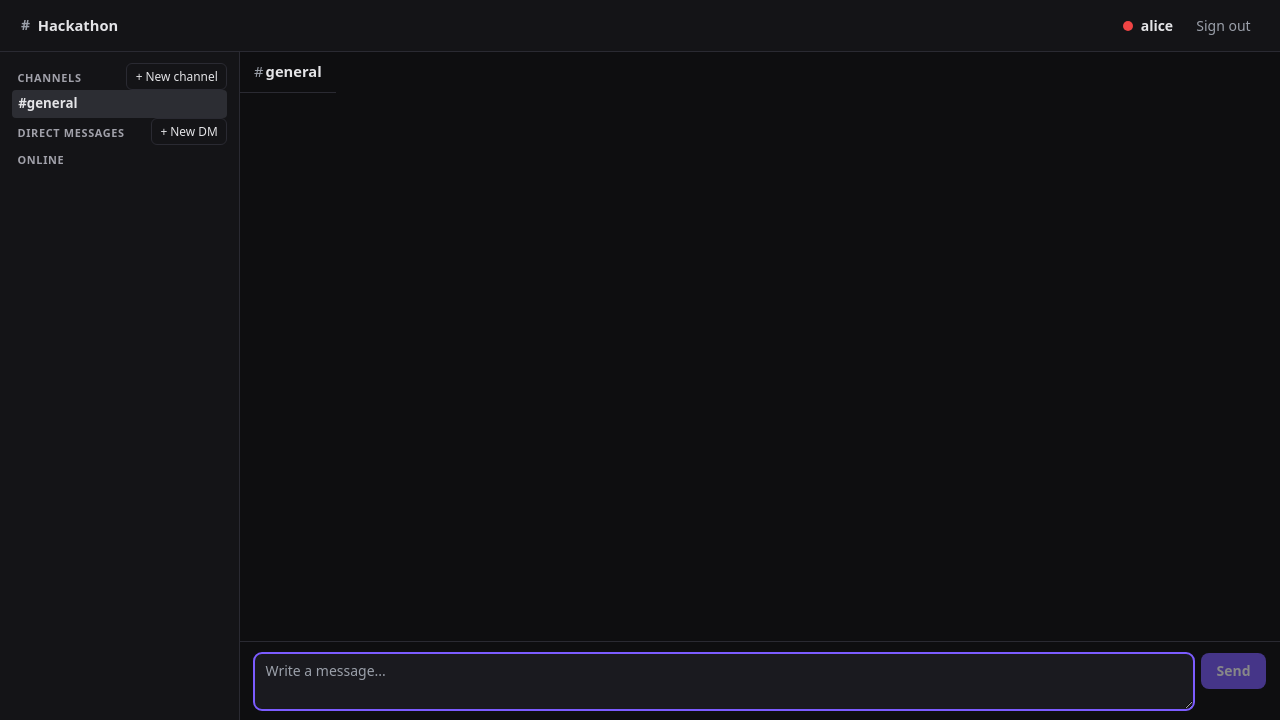
test_web_self_authored_optimistic_message_is_aria_hidden_for_sr › self-authored optimistic-send <article> carries aria-hidden=true while data-status=pending so the polite log region does not read the user's own message back to
The image size is (1280, 720).
Type "my own message" into the text box labelled "message". click: [724, 681]
box: [254,653,1194,710]
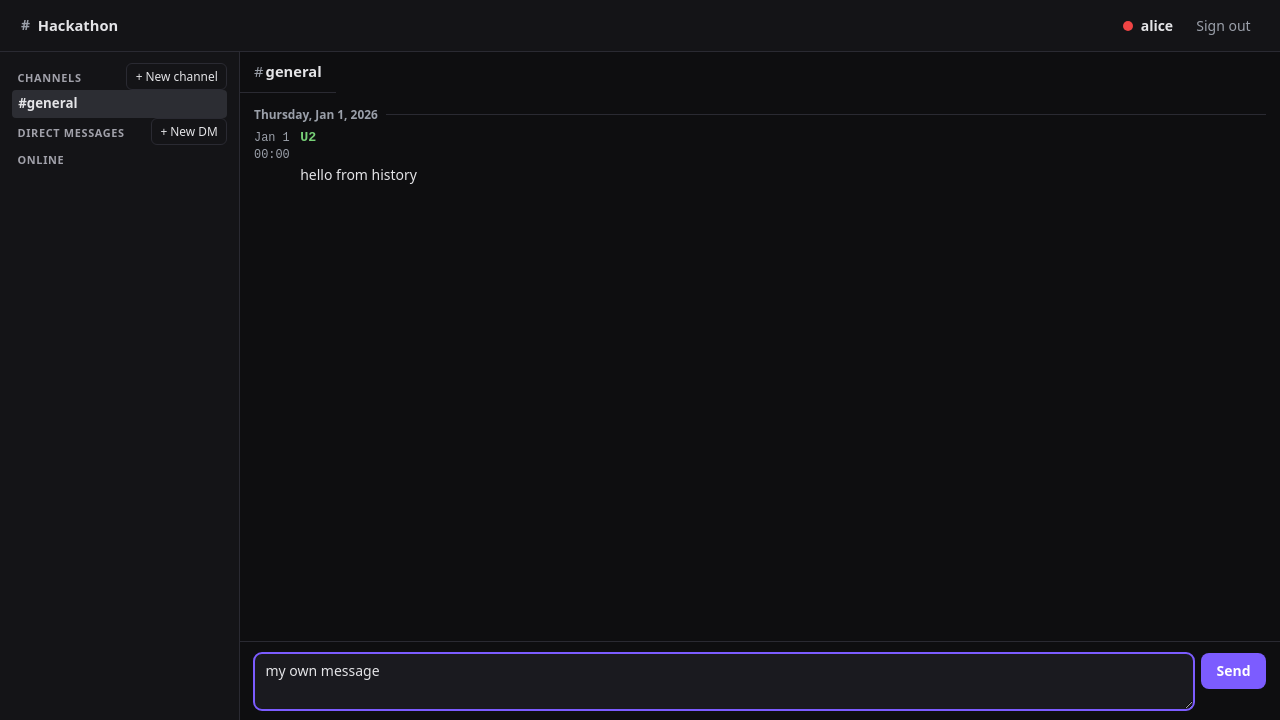
Press Enter in the text box named "message", box [254,653,1194,710]
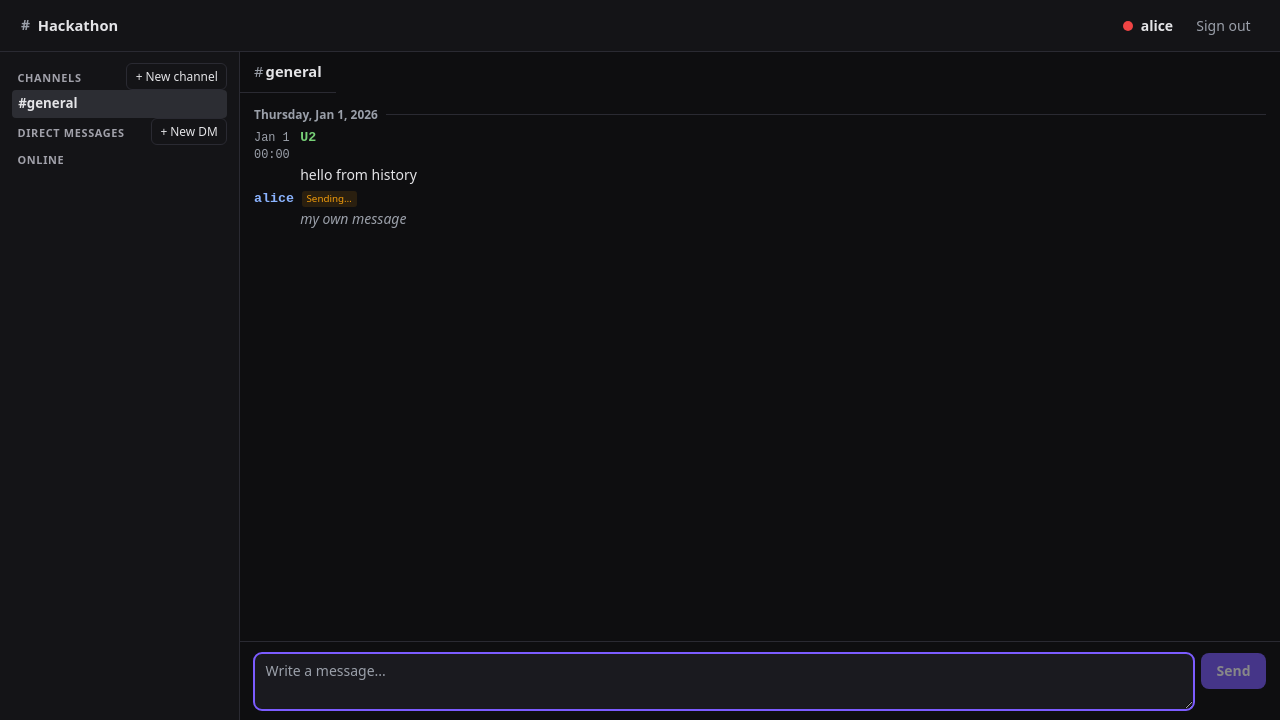
Now the element showing "alice Sending… my own message" is shown, box [254,191,406,228]
